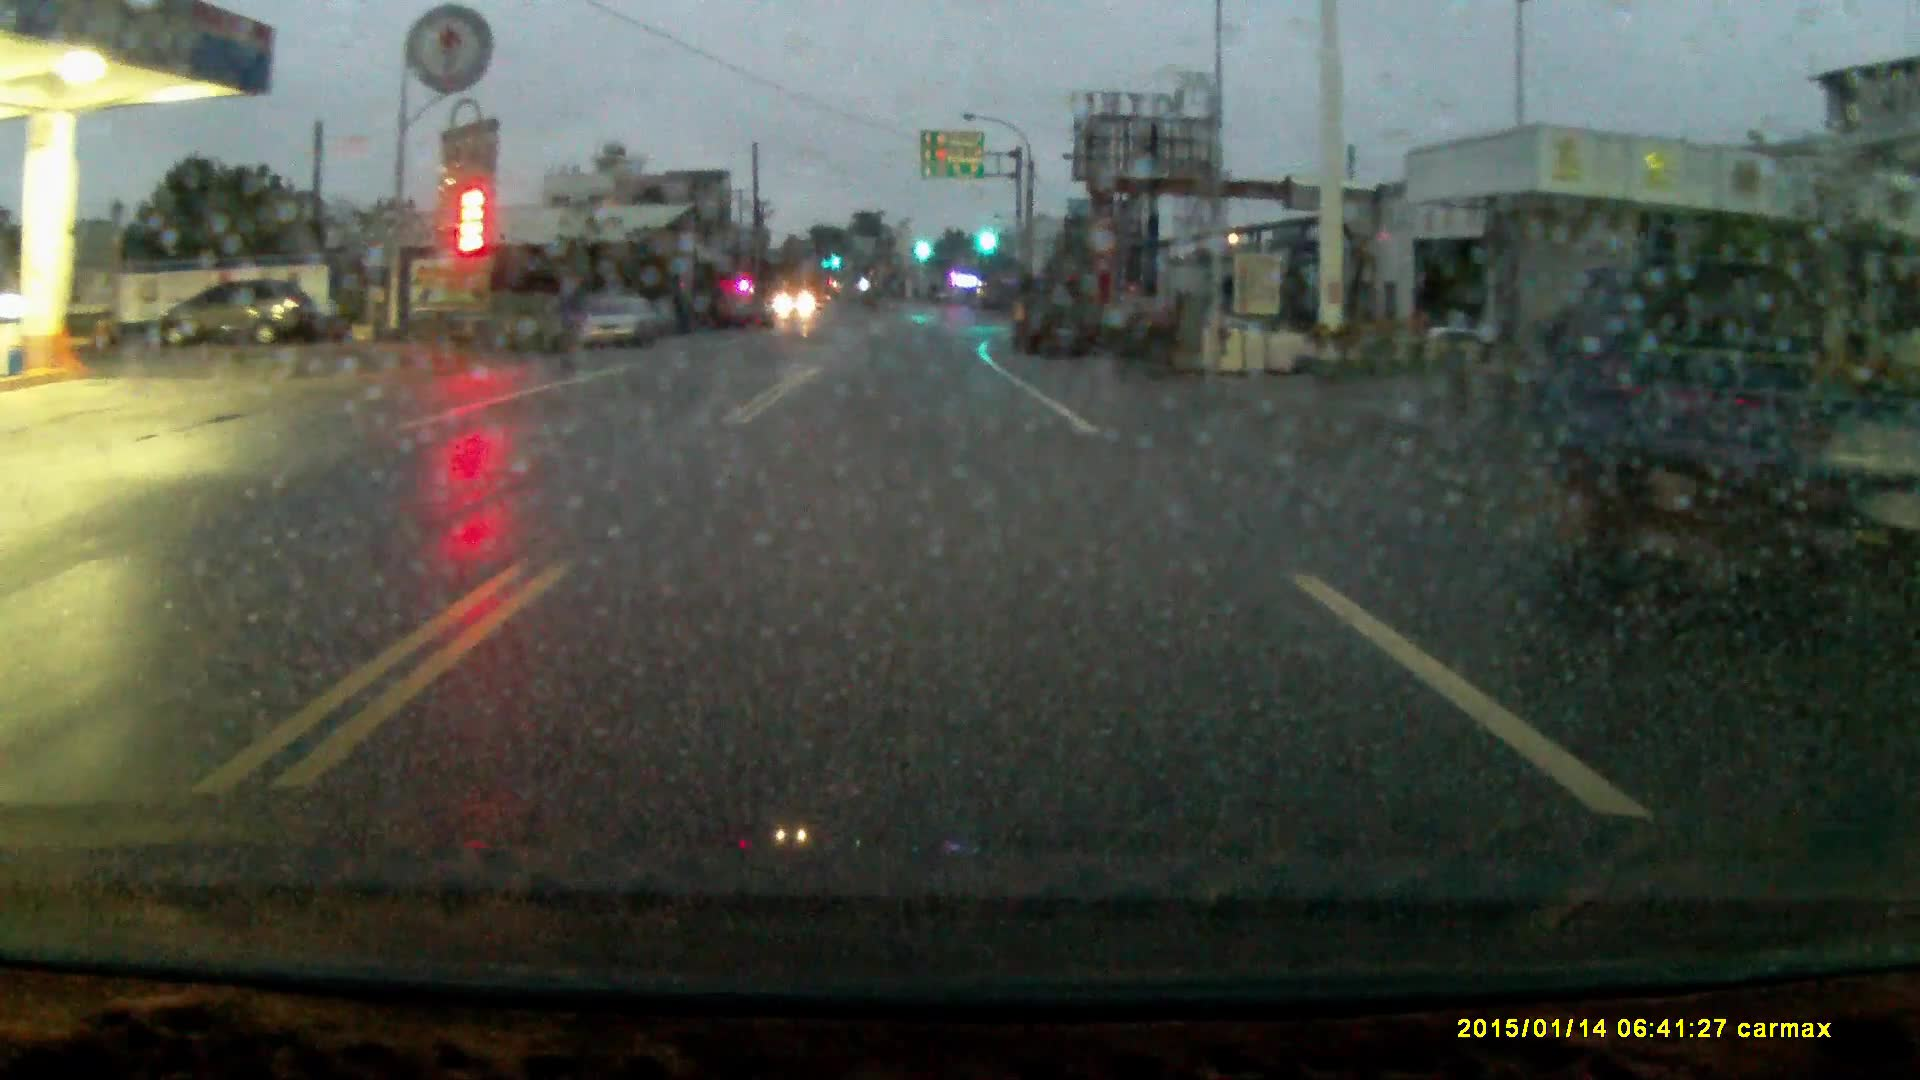rider: (544, 257, 596, 375)
vehicle: (1562, 262, 1871, 571), (150, 280, 320, 348), (1008, 268, 1103, 364), (578, 298, 680, 355)
